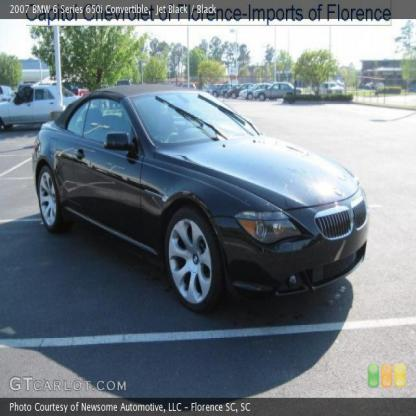Vehicle: (33, 86, 368, 311)
